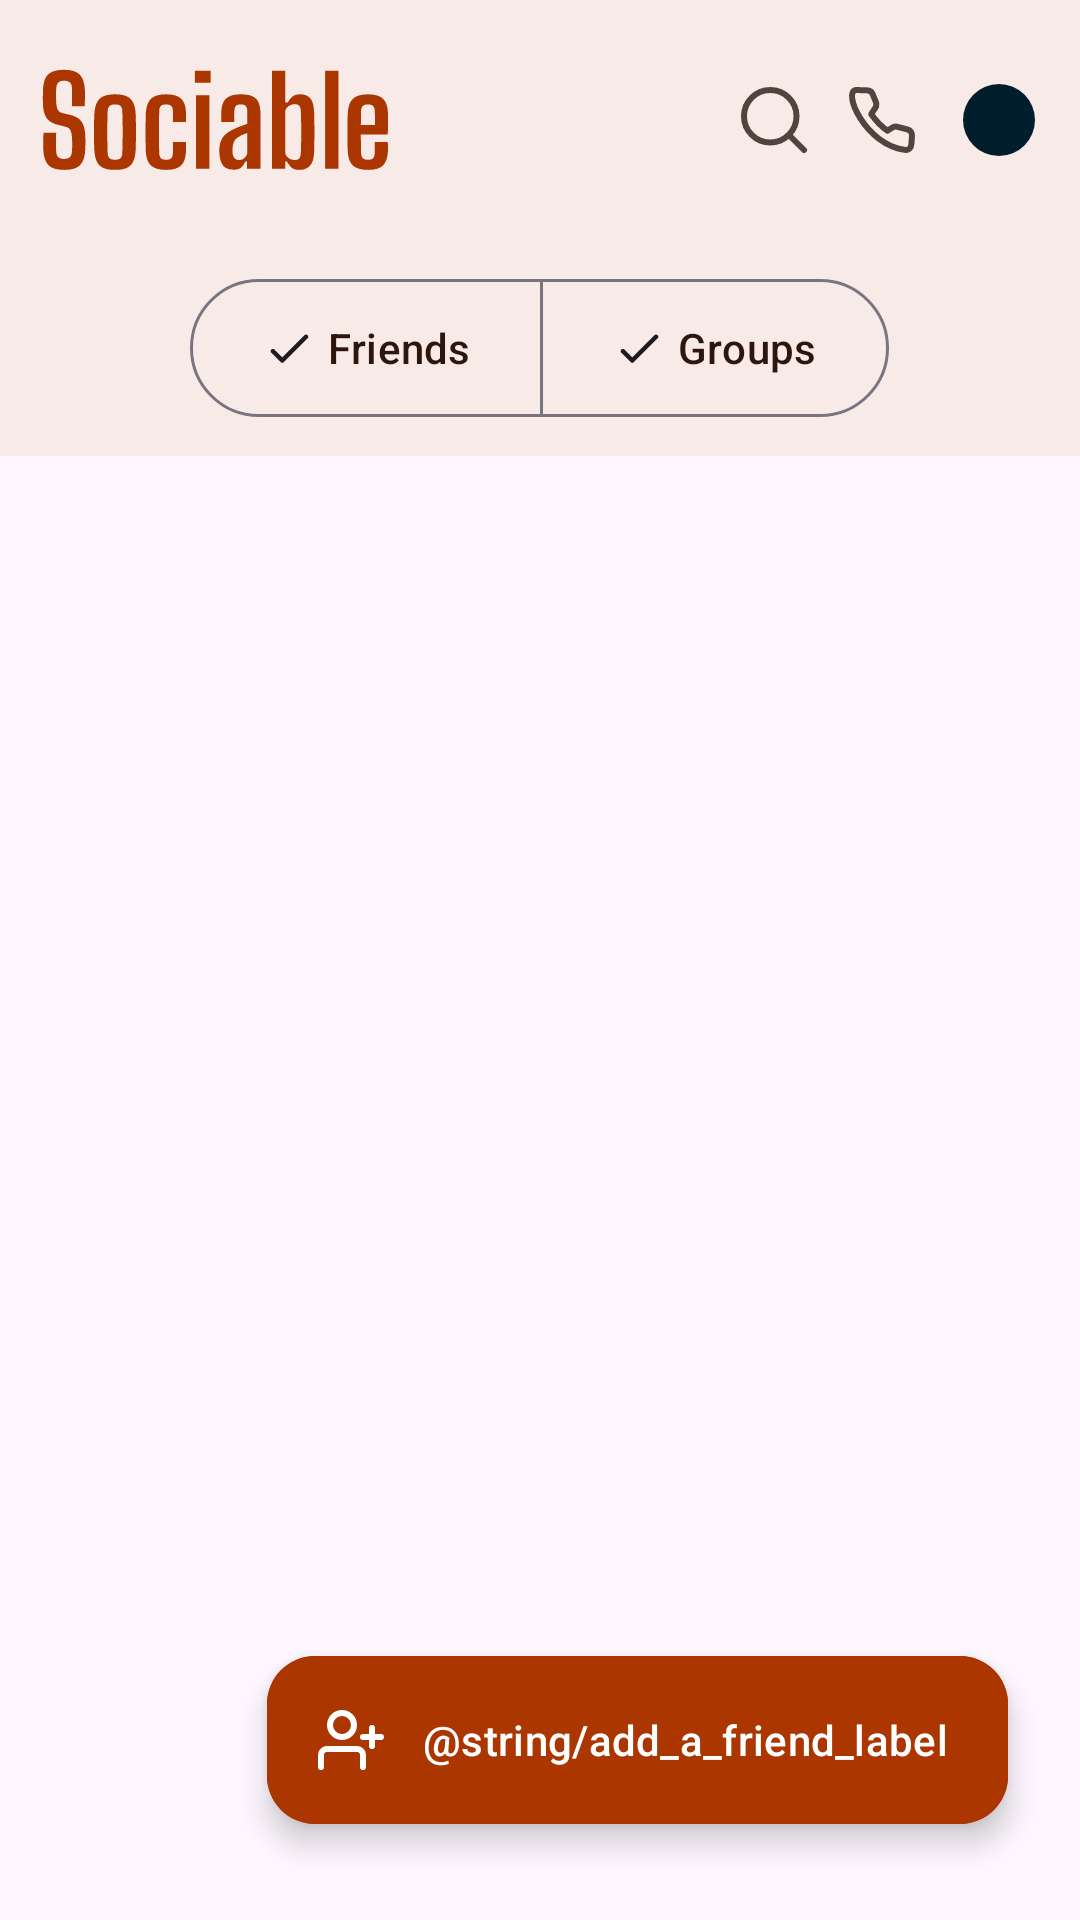

Where to tap for icons on this 1080w x 1920h app screen, as [x,y]:
phone call: [882,120]
search: [774,120]
